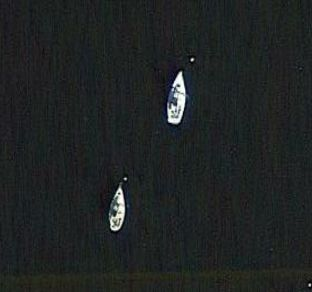boat: (165, 69, 189, 126), (109, 180, 131, 234)
